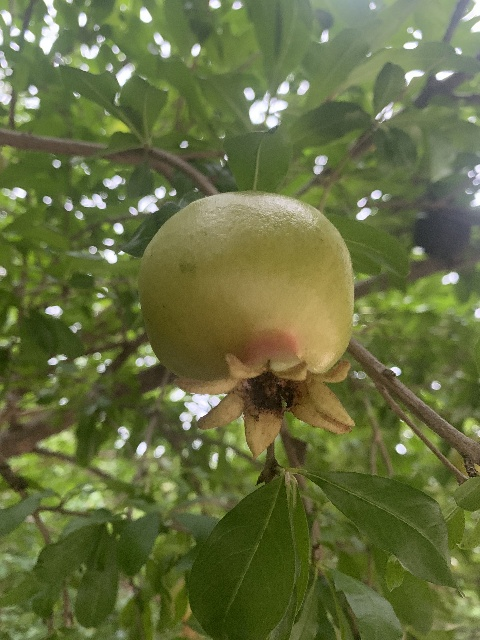mid-growth: (139, 190, 355, 461)
